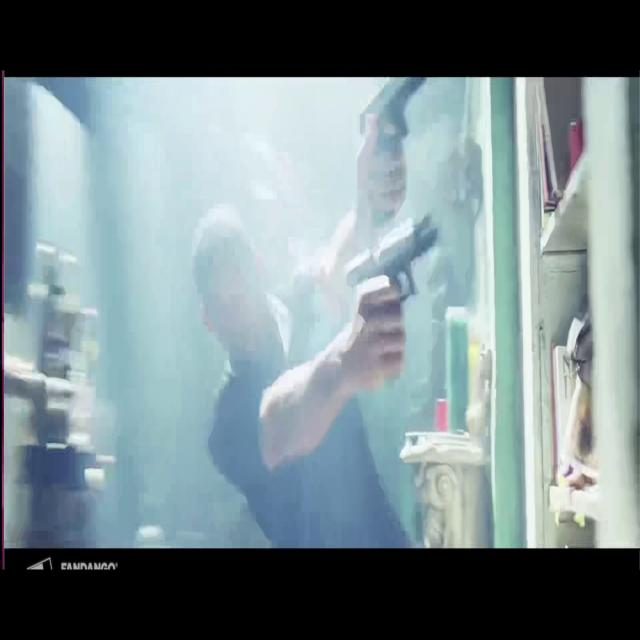weapons: (343, 215, 445, 356), (353, 76, 448, 179)
